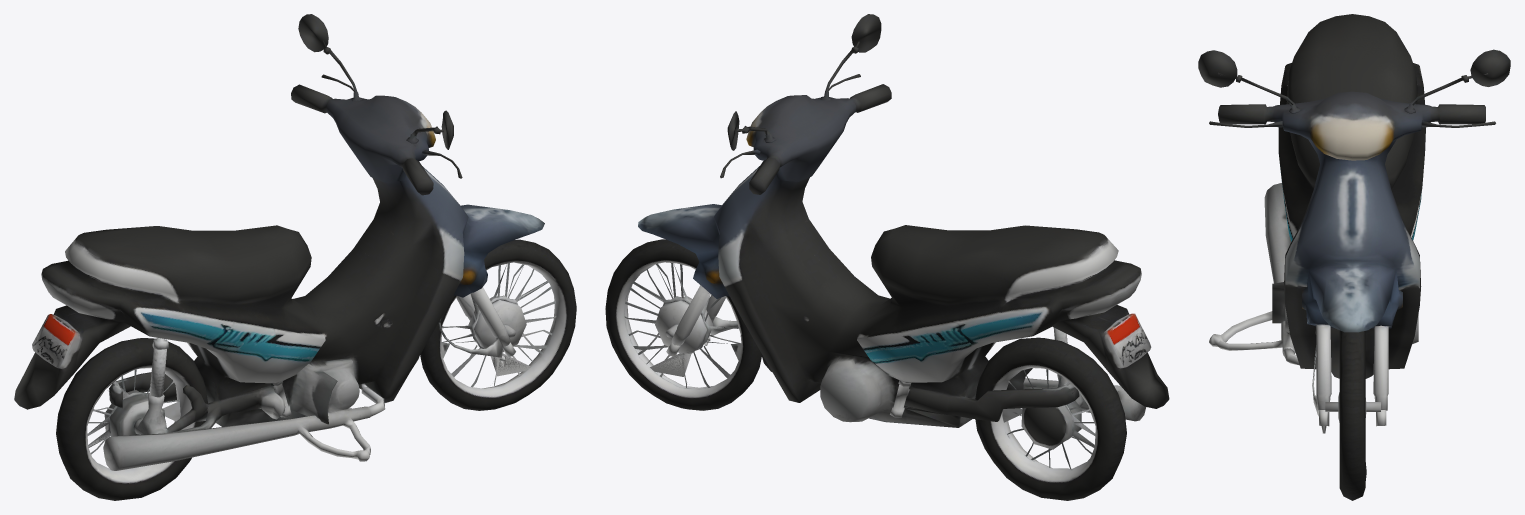
Rendered from Blue Motor Scooter Motorcycle.glb.
3 renders of one model, left to right at view 1: azimuth 30°, elevation 25°; view 2: azimuth 150°, elevation 25°; view 3: azimuth 270°, elevation 25°, orthographic. The views are drawn at different scales.
Parts seen in each view (by area): view 1: pb_node; view 2: pb_node; view 3: pb_node.
Part boxes in pixels (<box>): pb_node: <box>14,14,576,500</box>; pb_node: <box>605,14,1169,500</box>; pb_node: <box>1198,14,1510,500</box>.
Size of the model in its own units: 0.998 by 0.6426 by 0.4707.
1 material, 1 textured.
